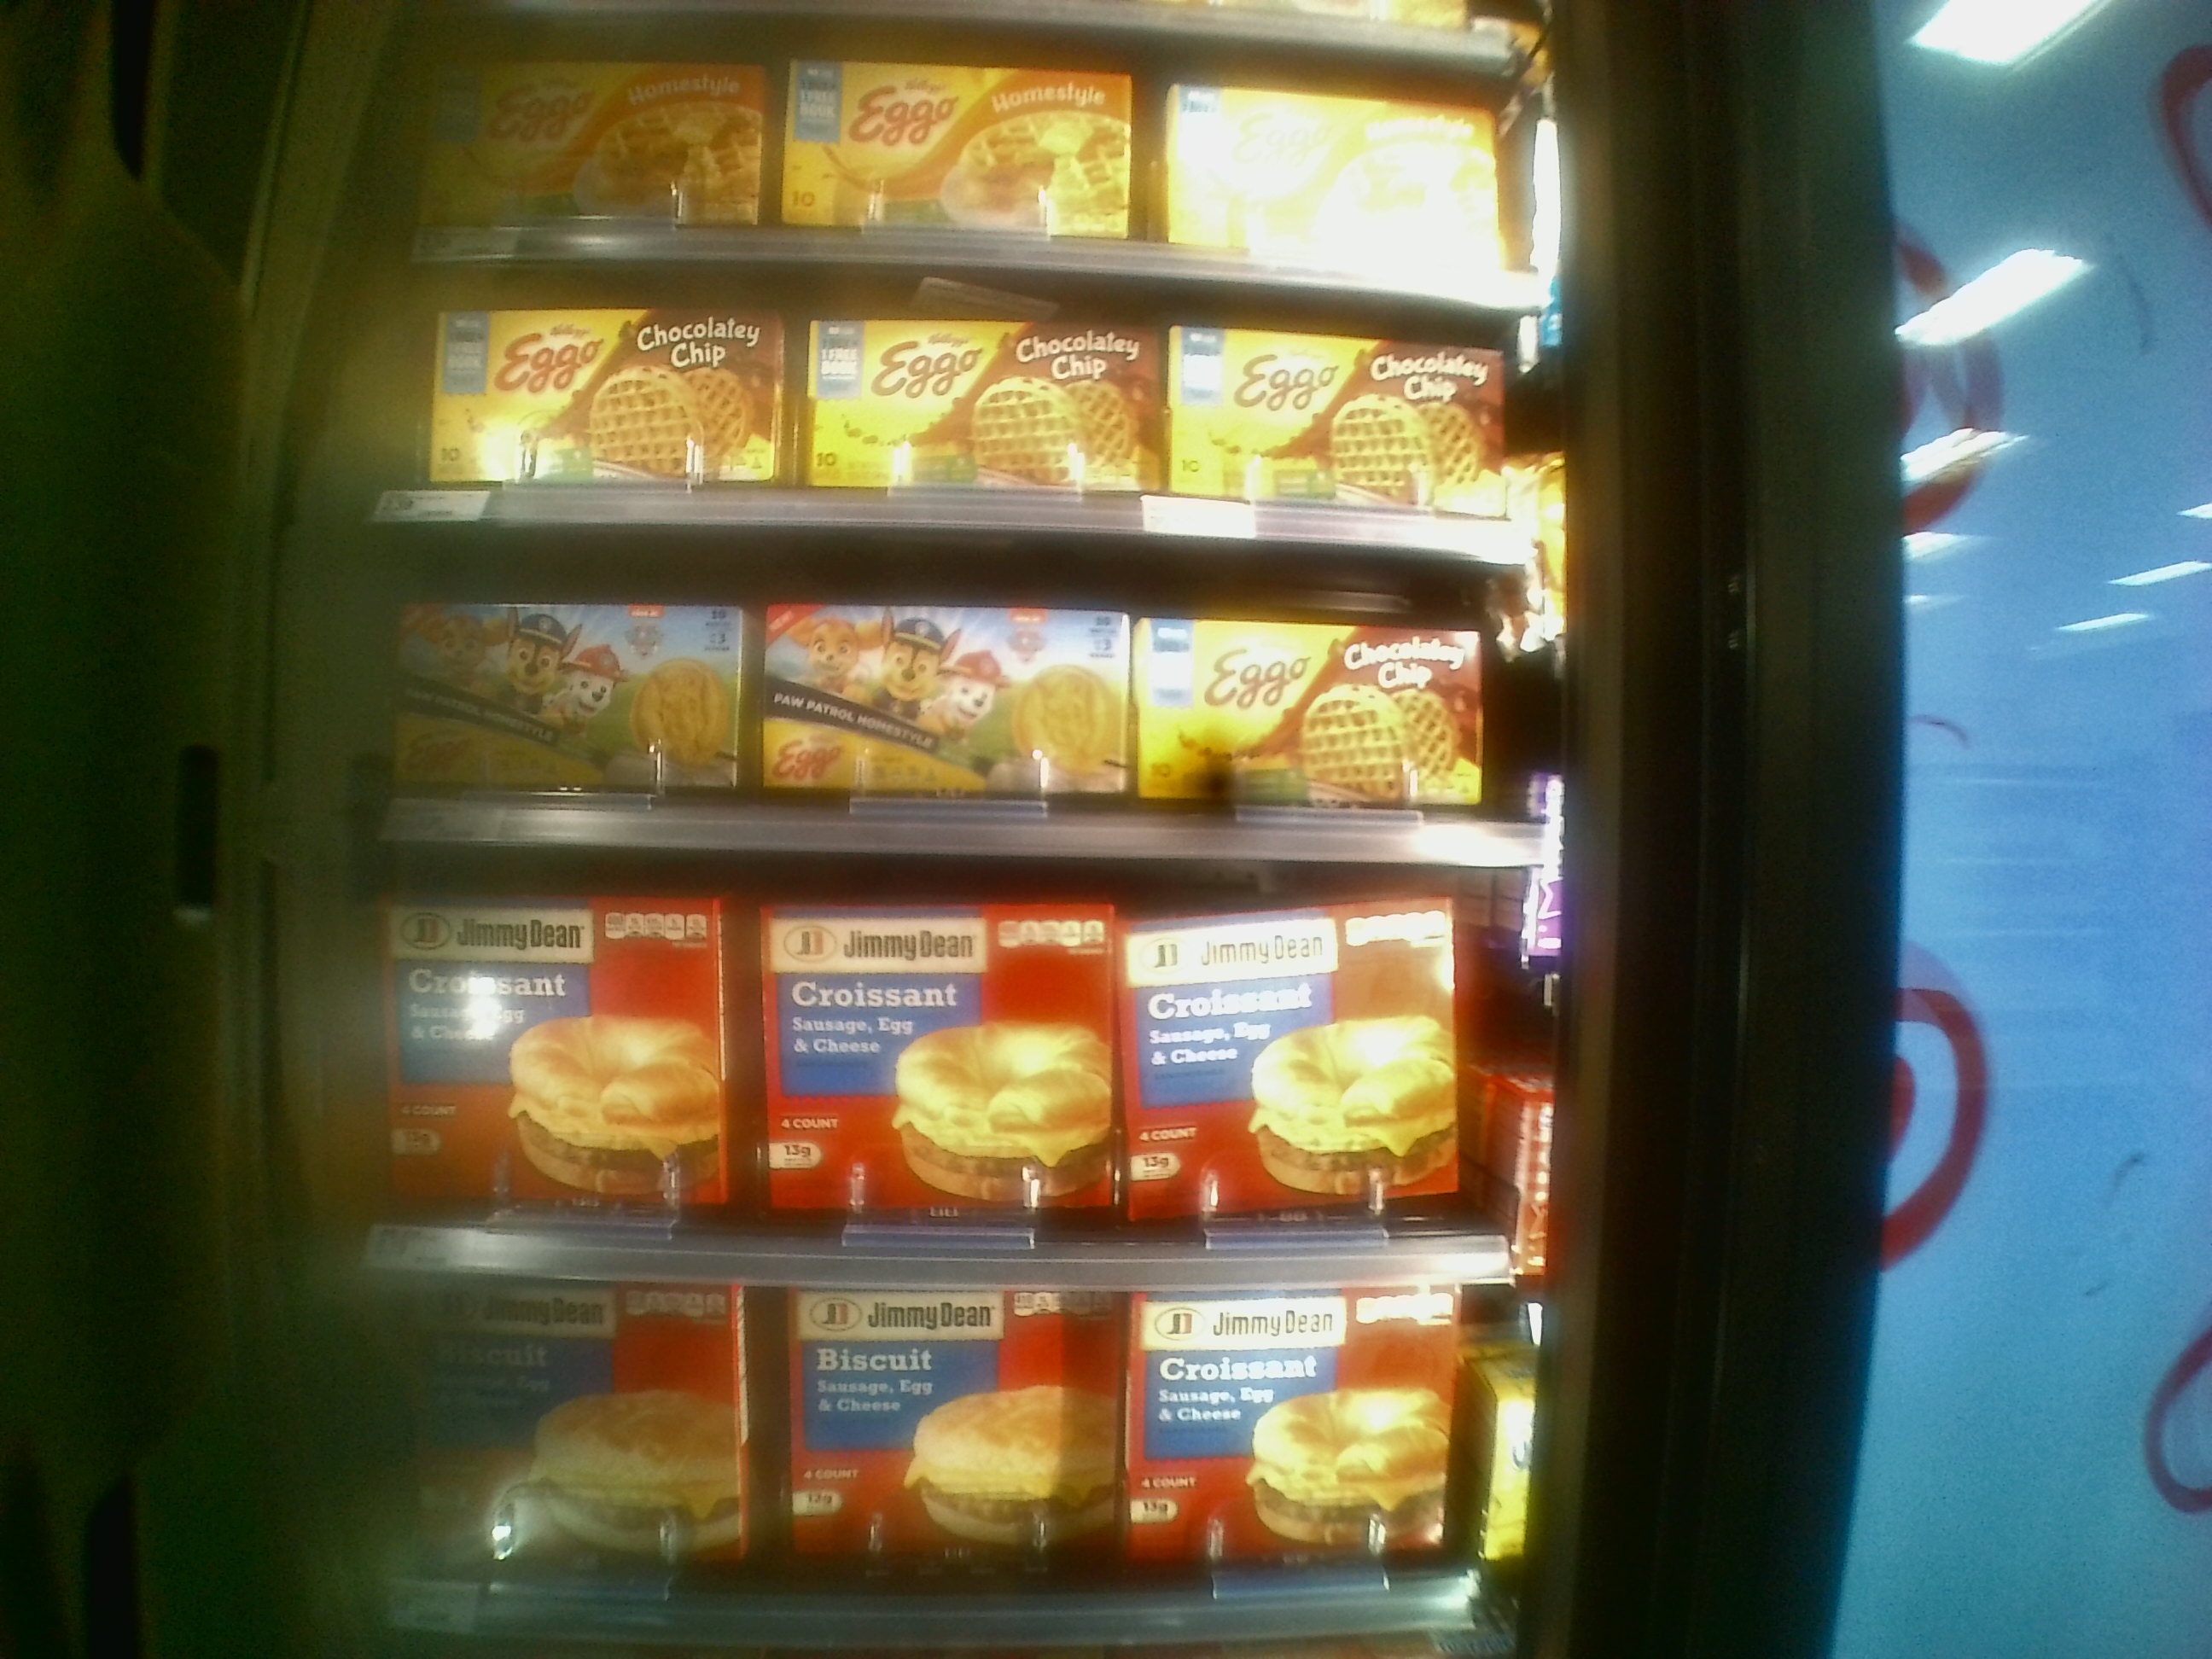shelf: (359, 829, 1519, 1303), (383, 1303, 1540, 1659), (361, 532, 1543, 868), (385, 282, 1536, 545)
